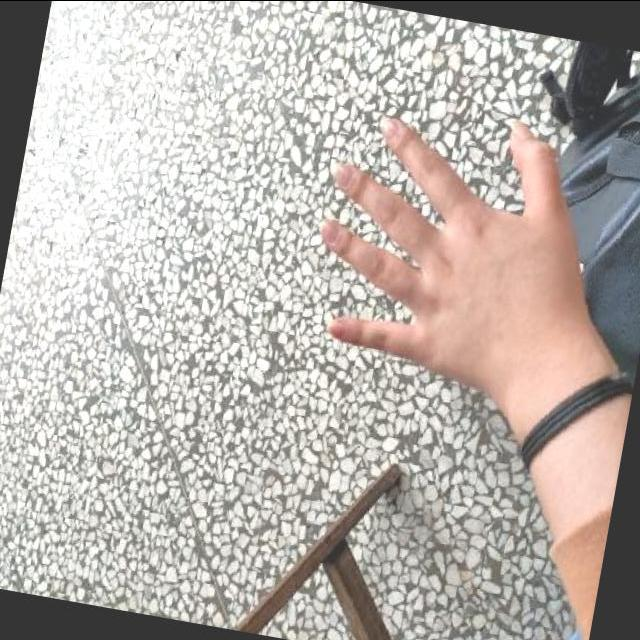Hand: (315, 114, 600, 421)
